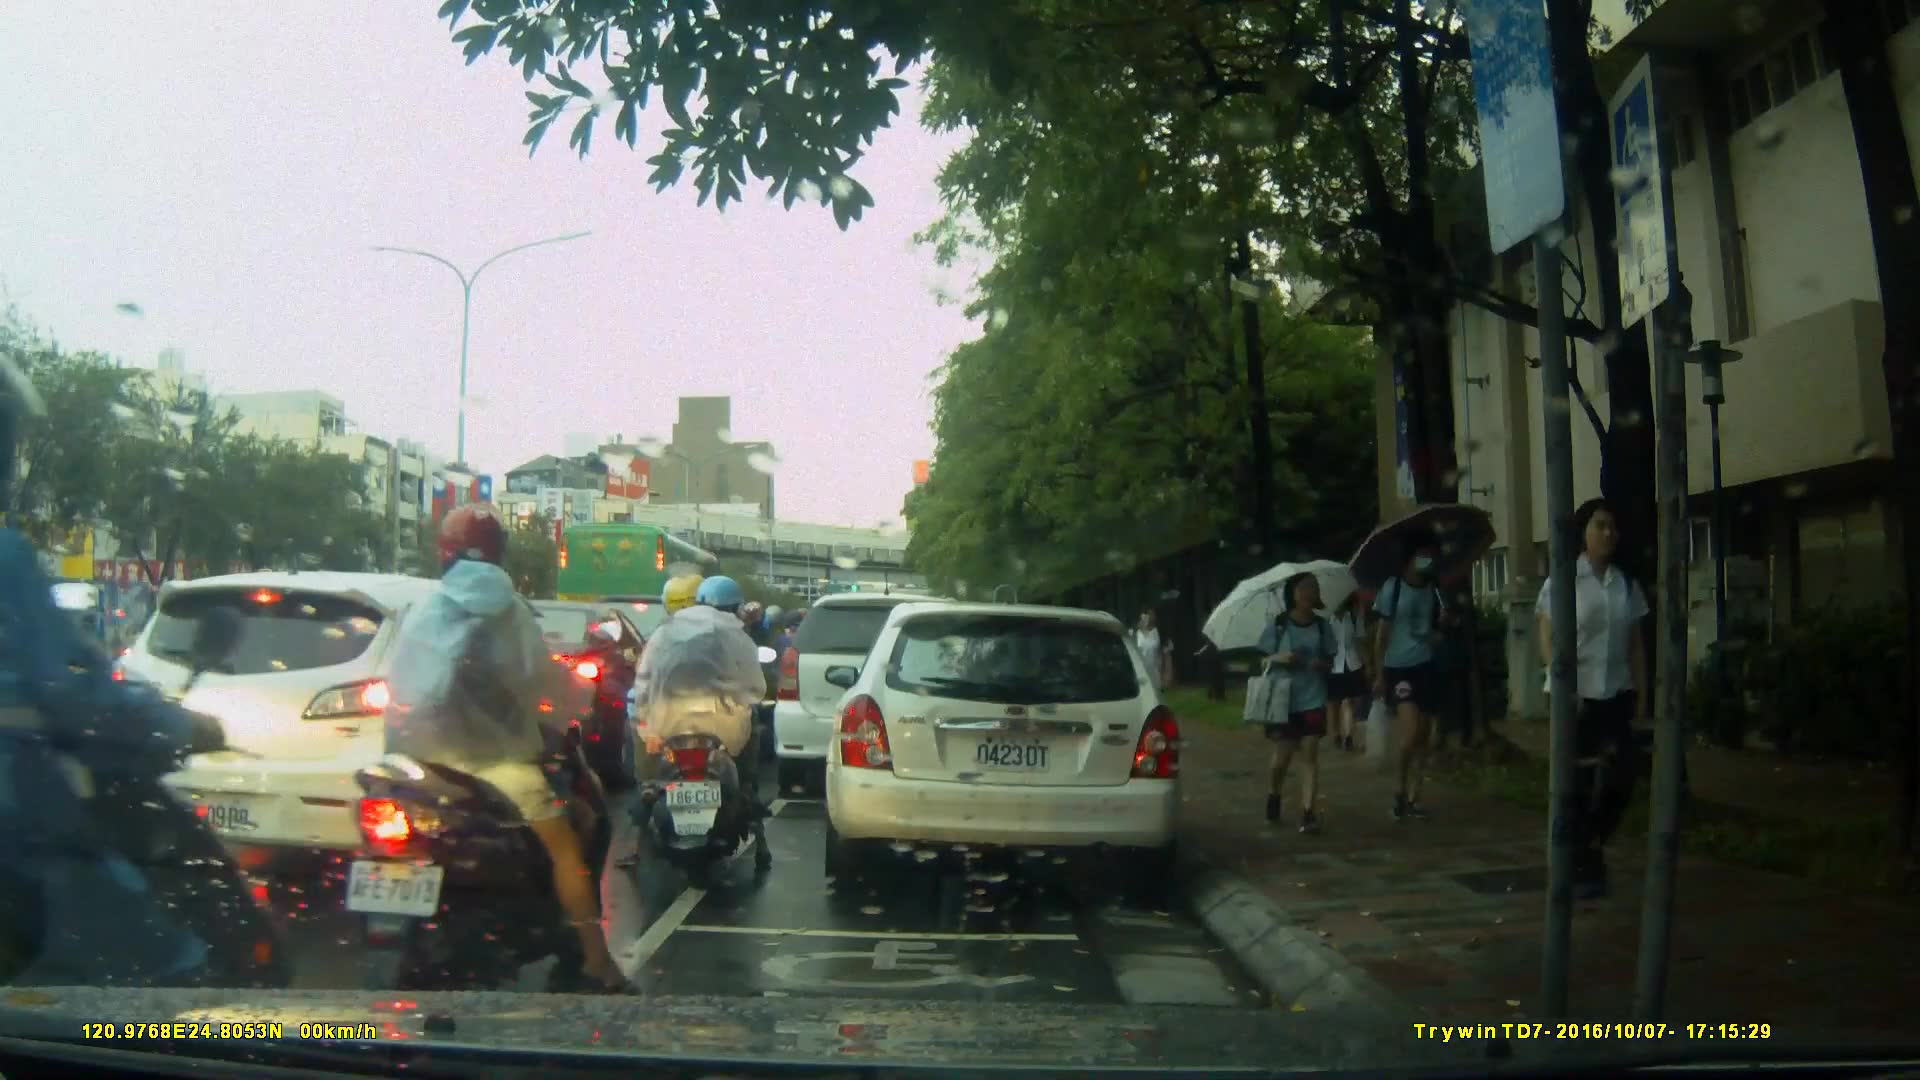pedestrian: (1528, 492, 1657, 905), (1348, 536, 1471, 835), (1247, 562, 1353, 847), (1128, 599, 1173, 751)
rider: (1, 415, 311, 1072), (343, 503, 641, 998), (614, 576, 777, 882), (661, 588, 762, 810)
vehicle: (96, 569, 591, 883), (822, 604, 1186, 883), (774, 595, 995, 802), (556, 520, 740, 665), (20, 576, 199, 697)
